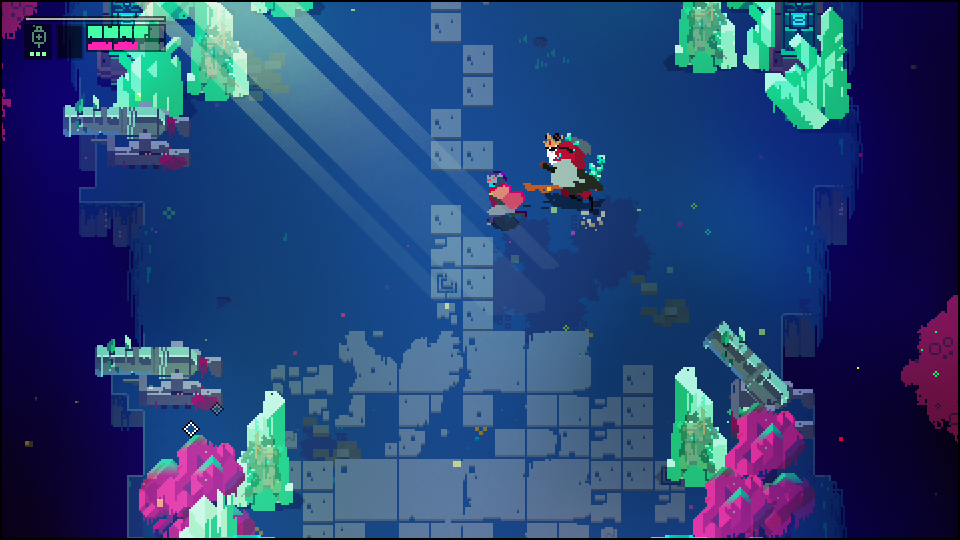hanged_man: (520, 131, 614, 211)
player: (479, 167, 529, 222)
